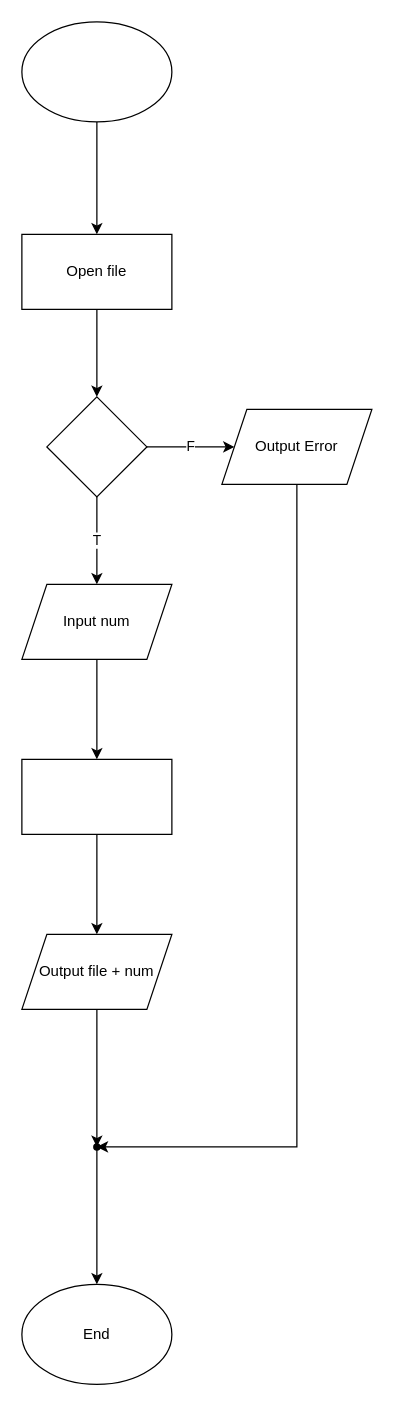
This 394x1406 diagram has some shape labels left out. Here are the shapes that lost their labels. From the top down, the centre of each, then its label:
At point 96,71: "Start".
At point 96,446: "file = number".
At point 96,796: "file + num".
